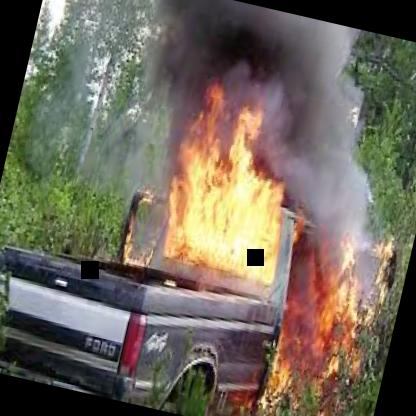fire: (119, 69, 410, 416)
